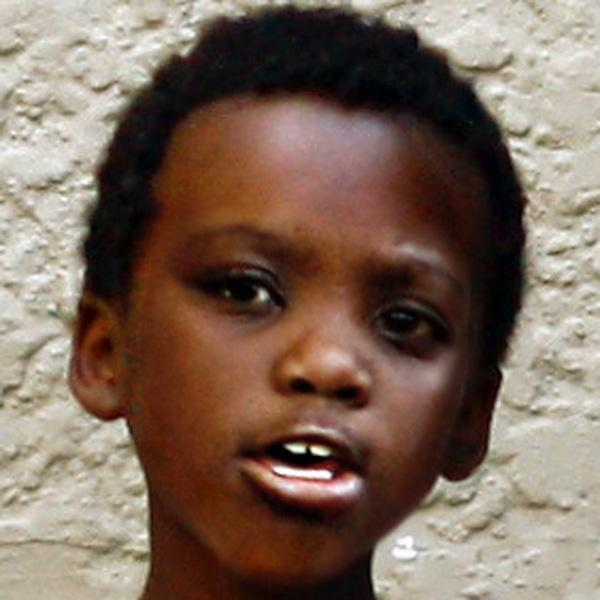Eyes: (181, 245, 289, 322), (359, 290, 458, 362)
